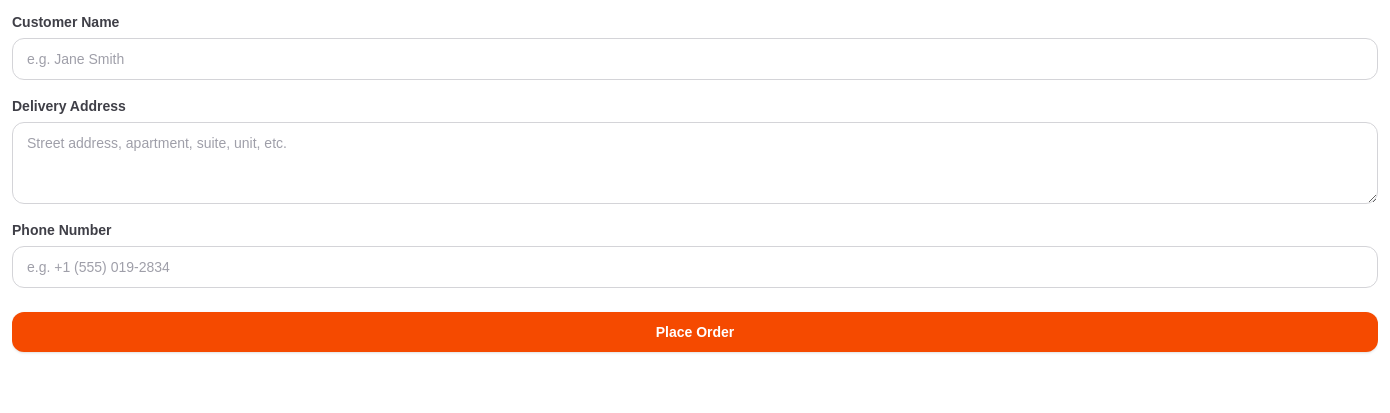
it: CheckoutForm Component › successfully places order, clears cart, and shows confirmation with order ID
Type "Jane Smith" into the field labelled "Customer Name" at (695, 59), box x1=12 y1=38 x2=1378 y2=80
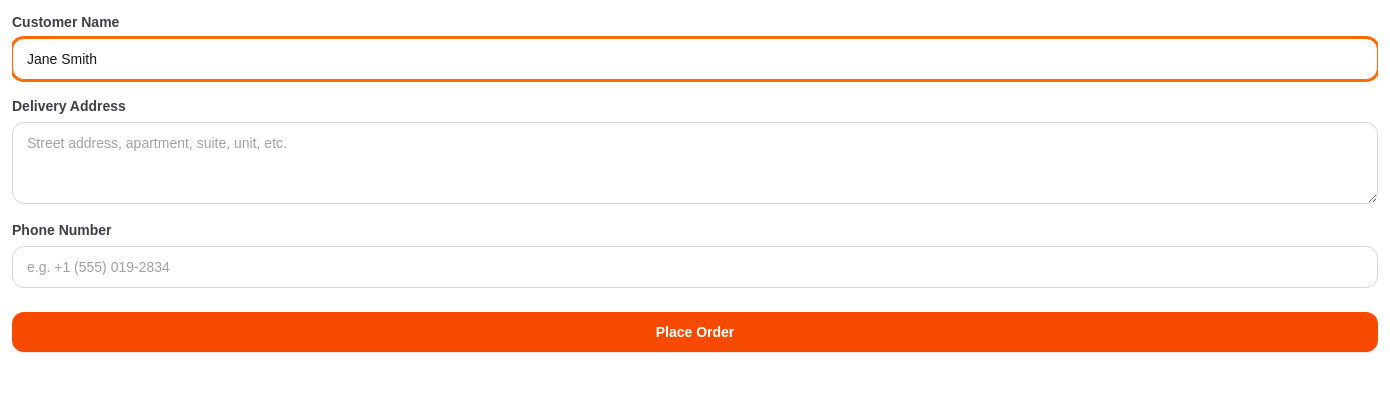
Type "789 Broadway Ave" into the text box labelled "Delivery Address" at (695, 163), box x1=12 y1=122 x2=1378 y2=204
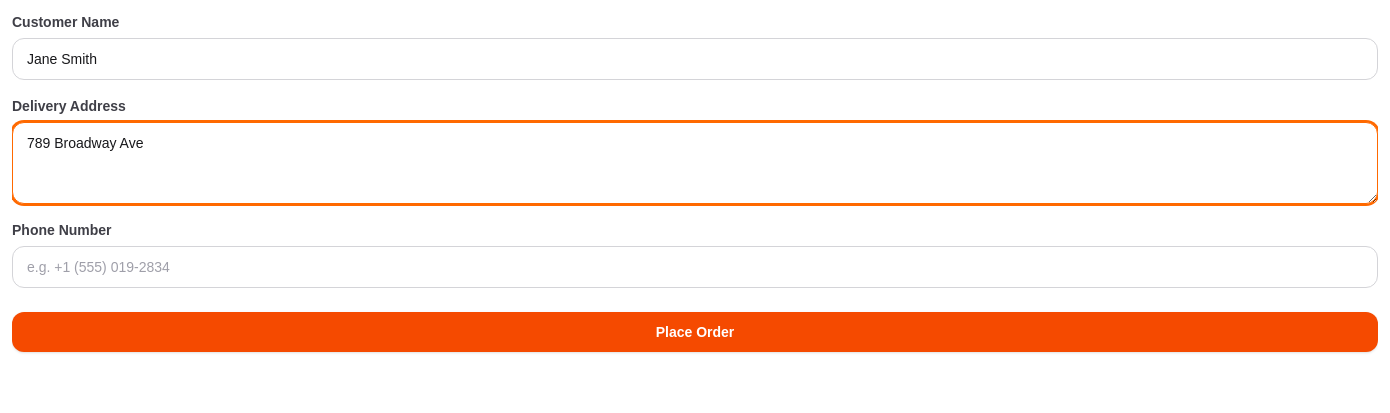
Type "+1 555-987-6543" into the field labelled "Phone Number" at (695, 267), box x1=12 y1=246 x2=1378 y2=288
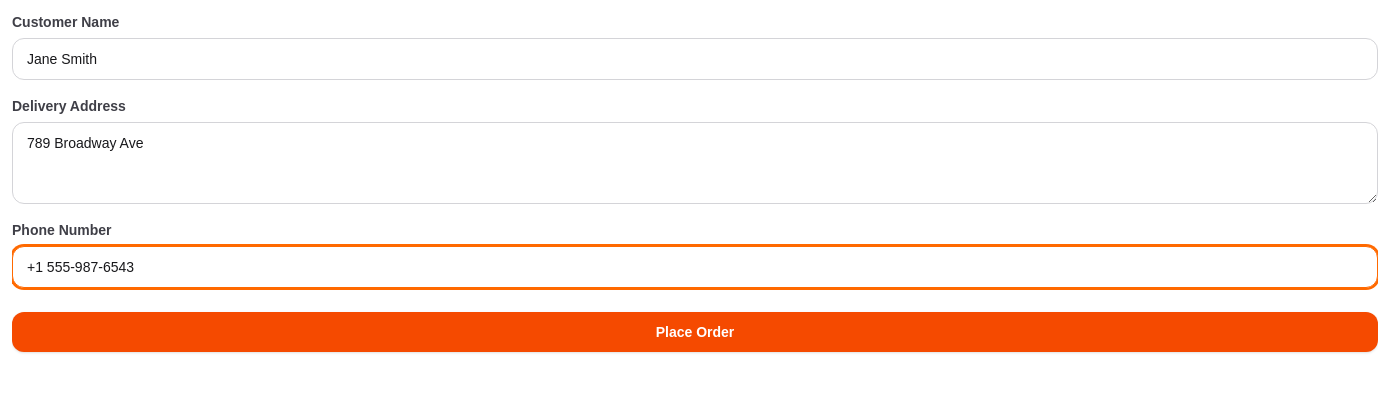
Click the button "Place Order" at (695, 332), box x1=12 y1=312 x2=1378 y2=352
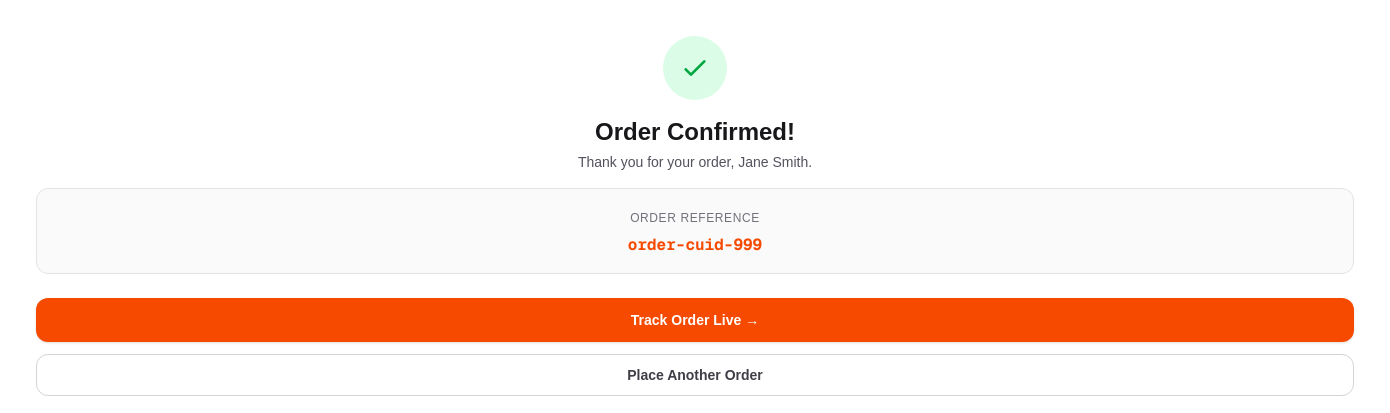
Now the heading "Order Confirmed!" is shown, box x1=595 y1=116 x2=795 y2=148
Now the text "order-cuid-999" is shown, box x1=628 y1=234 x2=762 y2=255
